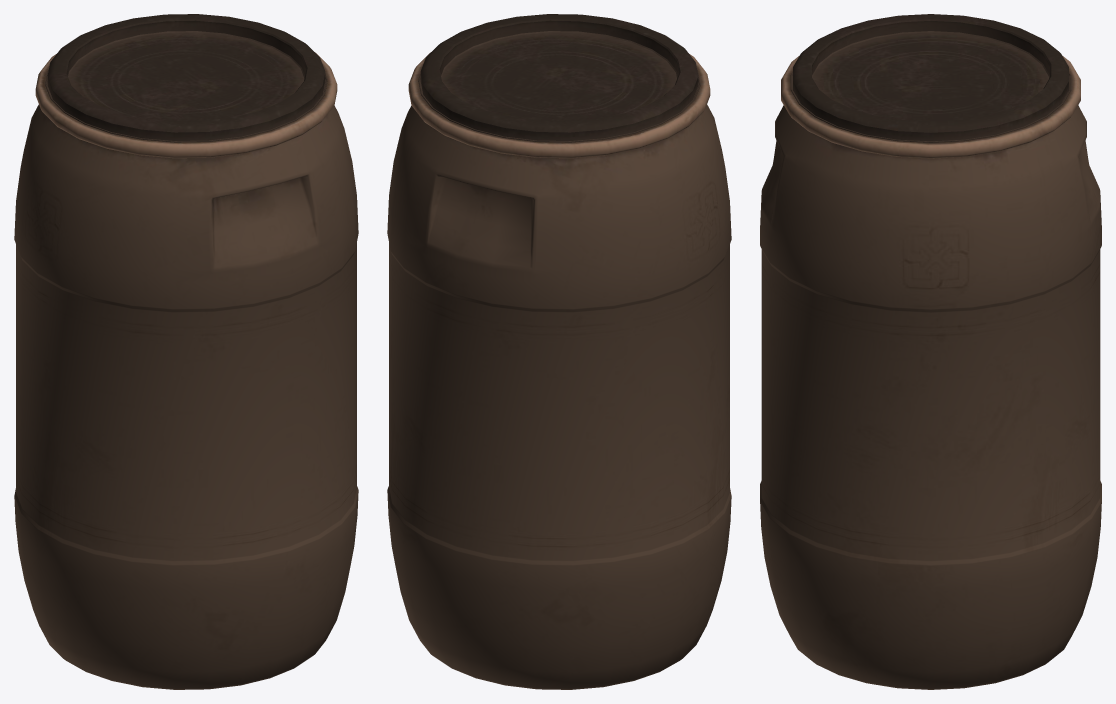
Rendered from ph_barrel_b.gltf.
The picture shows the model from 3 angles, left to right: view 1: azimuth 30°, elevation 25°; view 2: azimuth 150°, elevation 25°; view 3: azimuth 270°, elevation 25°; orthographic projection.
Parts seen in each view (by area): view 1: ph_barrel_b; view 2: ph_barrel_b; view 3: ph_barrel_b.
Part boxes in pixels (x1,y1,x2,y2): ph_barrel_b: [14, 14, 358, 689]; ph_barrel_b: [387, 14, 731, 689]; ph_barrel_b: [760, 14, 1101, 689].
Size of the model in its own units: 0.4882 by 0.88 by 0.4846.
1 material, 1 textured.
